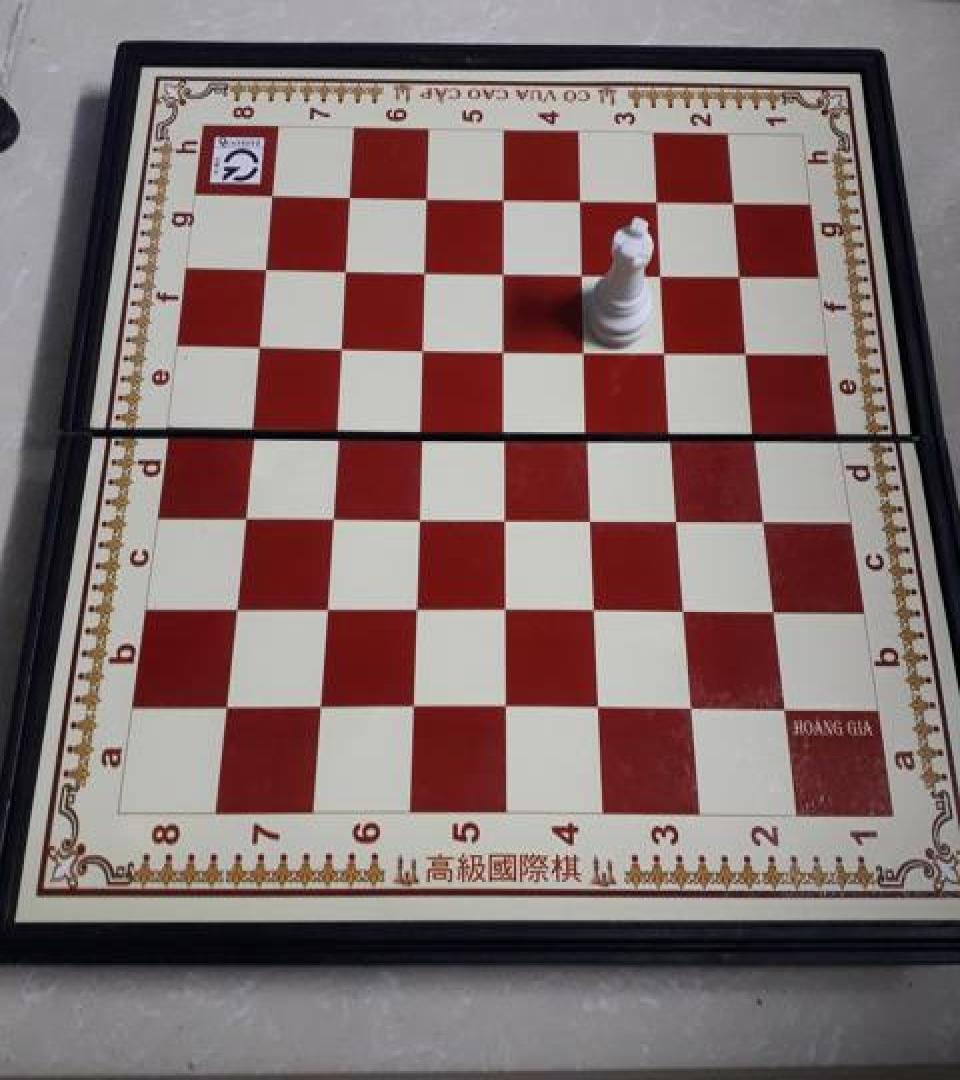xcorner: (585, 688, 617, 725), (678, 689, 710, 726), (770, 689, 802, 726), (402, 588, 434, 625), (492, 588, 524, 625), (212, 685, 244, 721), (306, 686, 338, 722), (399, 688, 431, 724), (493, 688, 525, 724), (221, 586, 253, 622), (312, 587, 344, 623), (582, 590, 614, 626), (671, 590, 703, 626), (760, 592, 792, 628), (229, 493, 261, 529), (317, 494, 349, 530), (404, 495, 436, 531), (491, 496, 523, 532), (578, 497, 610, 533), (664, 498, 696, 534), (751, 500, 783, 536), (237, 406, 269, 442), (322, 407, 354, 443), (407, 408, 439, 444), (491, 410, 523, 446), (575, 410, 607, 446), (658, 412, 690, 448), (742, 413, 774, 449), (245, 325, 277, 361), (327, 326, 359, 362), (409, 328, 441, 364), (572, 330, 604, 366), (653, 331, 685, 367), (733, 333, 765, 369), (252, 248, 284, 284), (331, 250, 363, 286), (411, 251, 443, 287), (490, 252, 522, 288), (569, 254, 601, 290), (647, 256, 679, 292), (726, 256, 758, 292), (258, 176, 290, 212), (336, 178, 368, 214), (413, 179, 445, 215), (490, 181, 522, 217), (566, 182, 598, 218), (642, 184, 674, 220), (718, 184, 750, 220), (490, 329, 522, 364)
